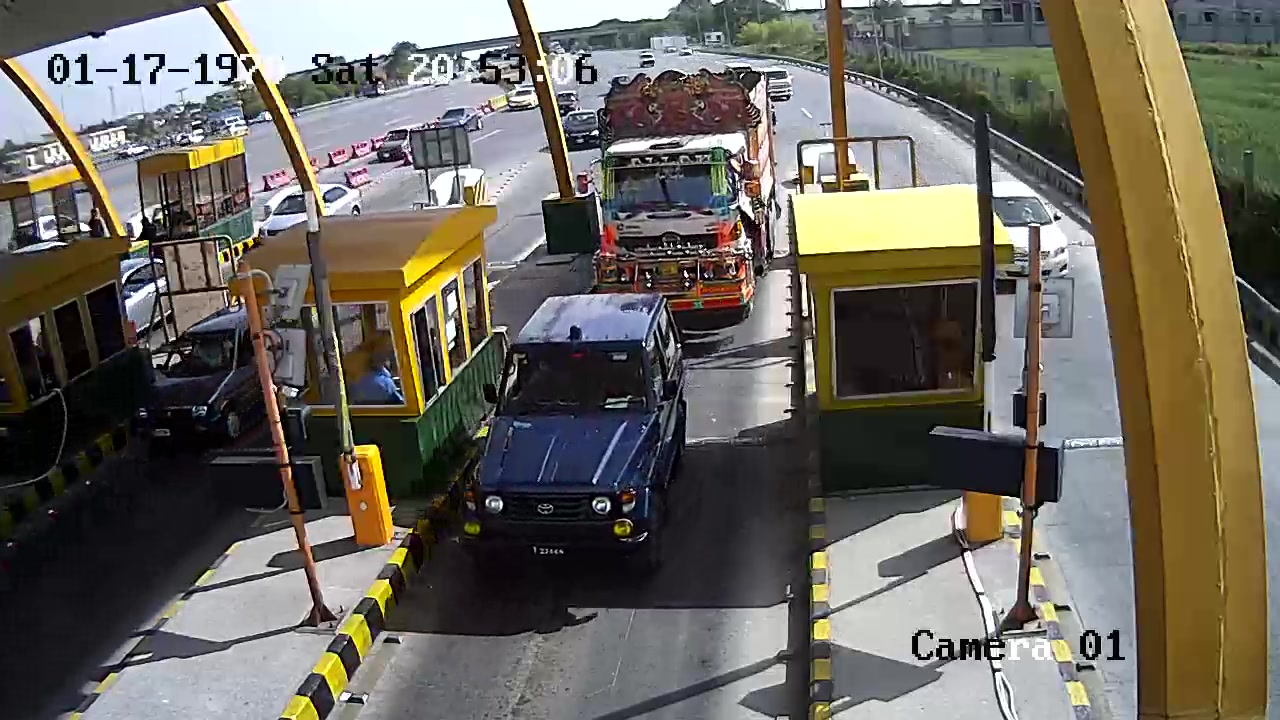F1: (459, 282, 702, 572)
